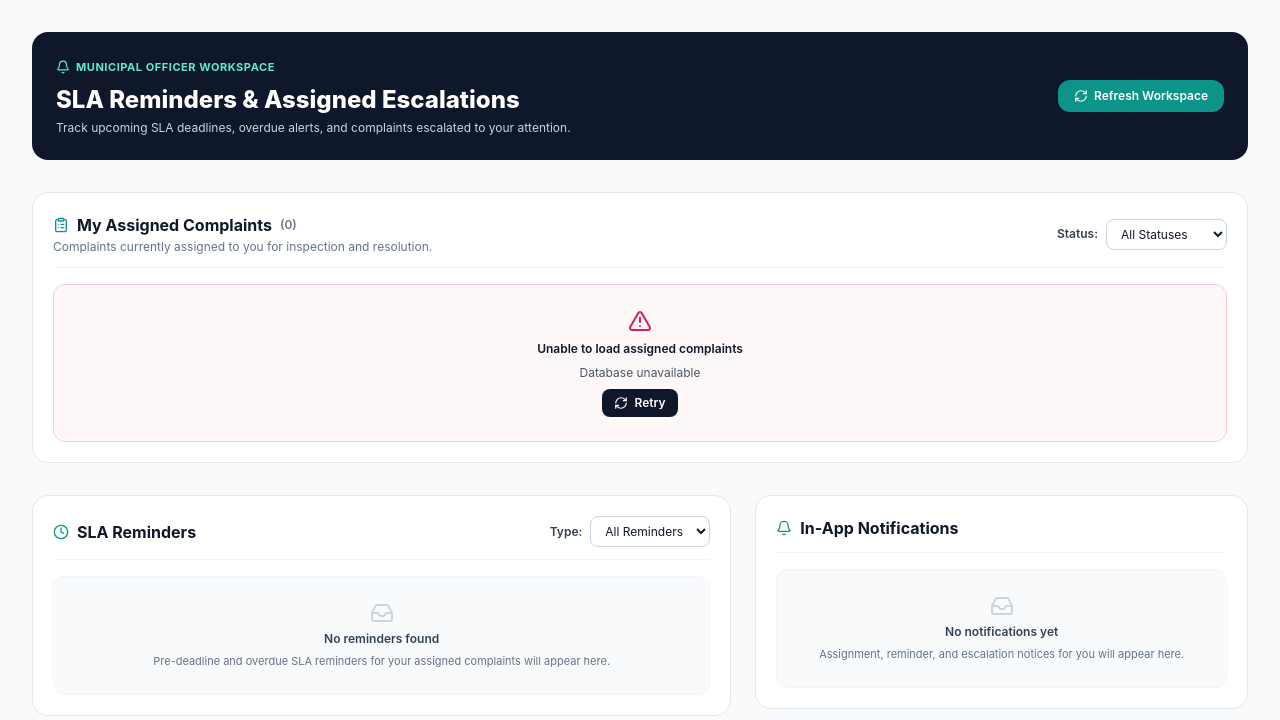
it: Officer Assigned Complaints List & Photo Display › renders empty and error+retry states for My Assigned Complaints
The width and height of the screenshot is (1280, 720).
expect the text "Unable to load assigned complaints" is shown: met, box x1=537 y1=341 x2=743 y2=356
expect the text "Database unavailable" is shown: met, box x1=580 y1=365 x2=700 y2=380
Click the button "Retry": (640,403) x1=602 y1=389 x2=678 y2=417
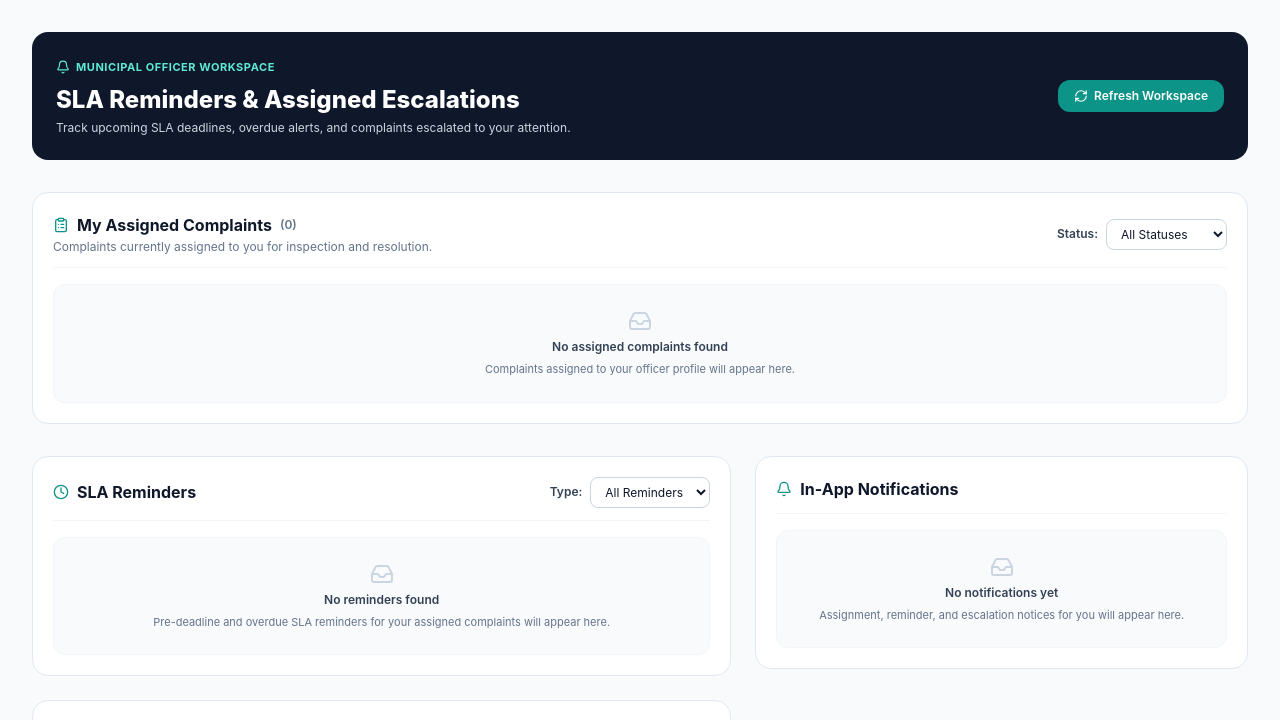
expect the text "No assigned complaints found" is shown: met, box x1=552 y1=339 x2=728 y2=354
